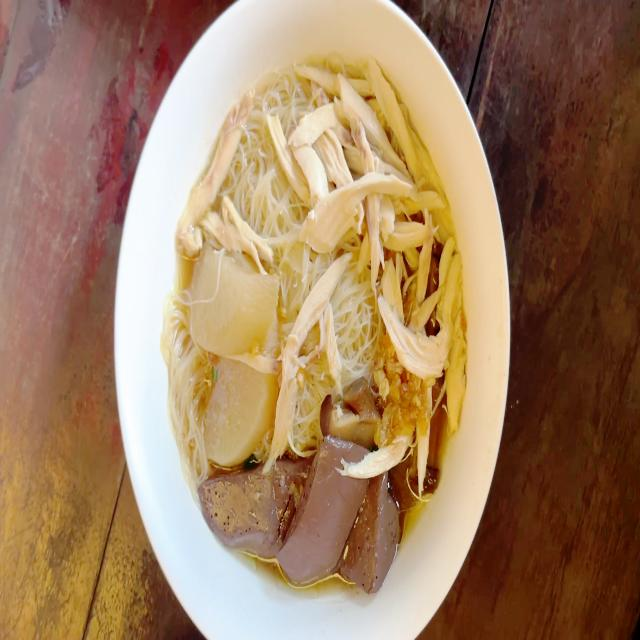boiled_chicken_blood_jelly: (205, 464, 308, 553), (286, 444, 348, 577), (337, 494, 399, 576)
chicken_shredded: (270, 106, 445, 266), (379, 261, 452, 468), (176, 102, 244, 250)
daikon_radish: (192, 252, 280, 366), (200, 361, 276, 460)
noodle: (165, 77, 468, 591)
